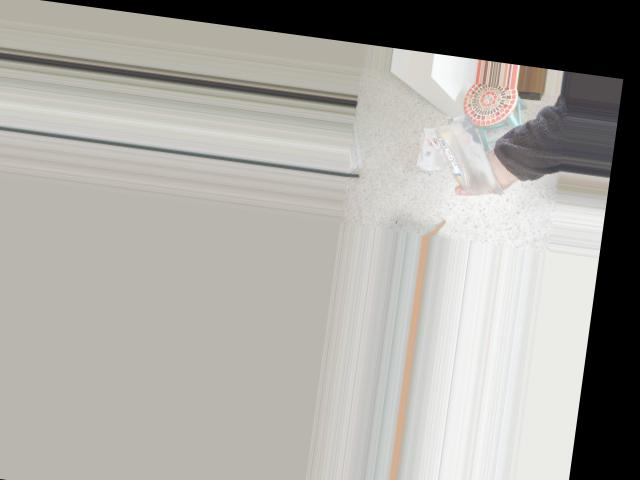cheese: (404, 85, 521, 206)
